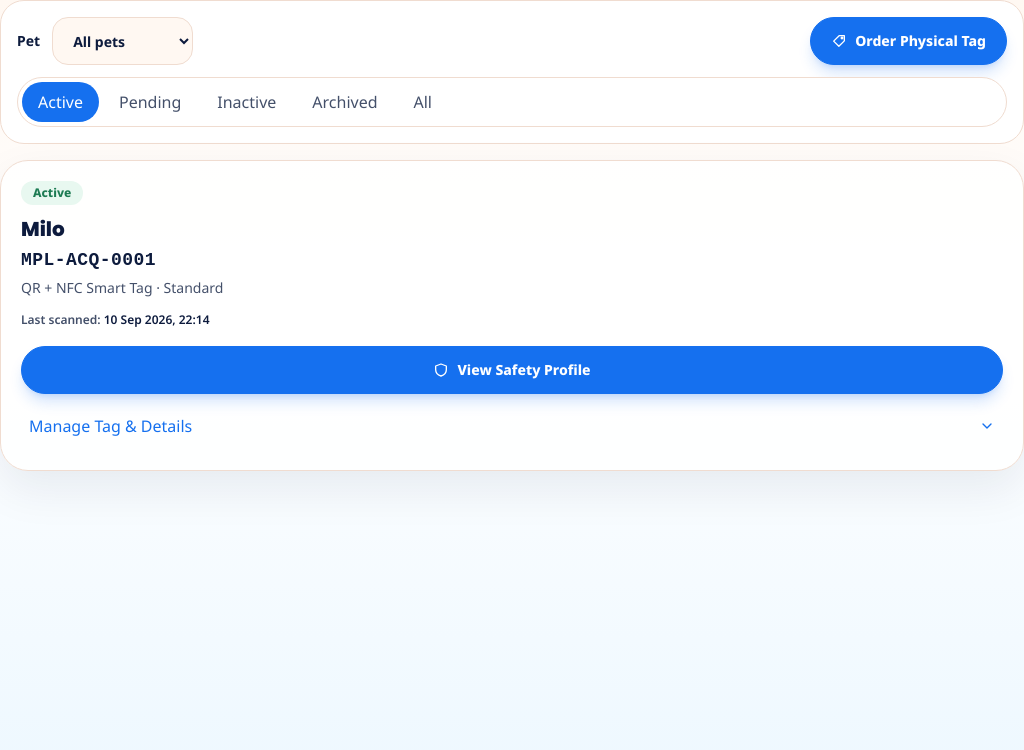
Test: Smart Tag card by acquisition route › B — shows no order or delivery rows for a reseller-bought tag
Expected: the text "MPL-ACQ-0001" is shown, top-left (21, 250), bottom-right (156, 270)
Click the button "Manage Tag & Details" at (111, 426), box top-left (21, 402), bottom-right (1003, 450)
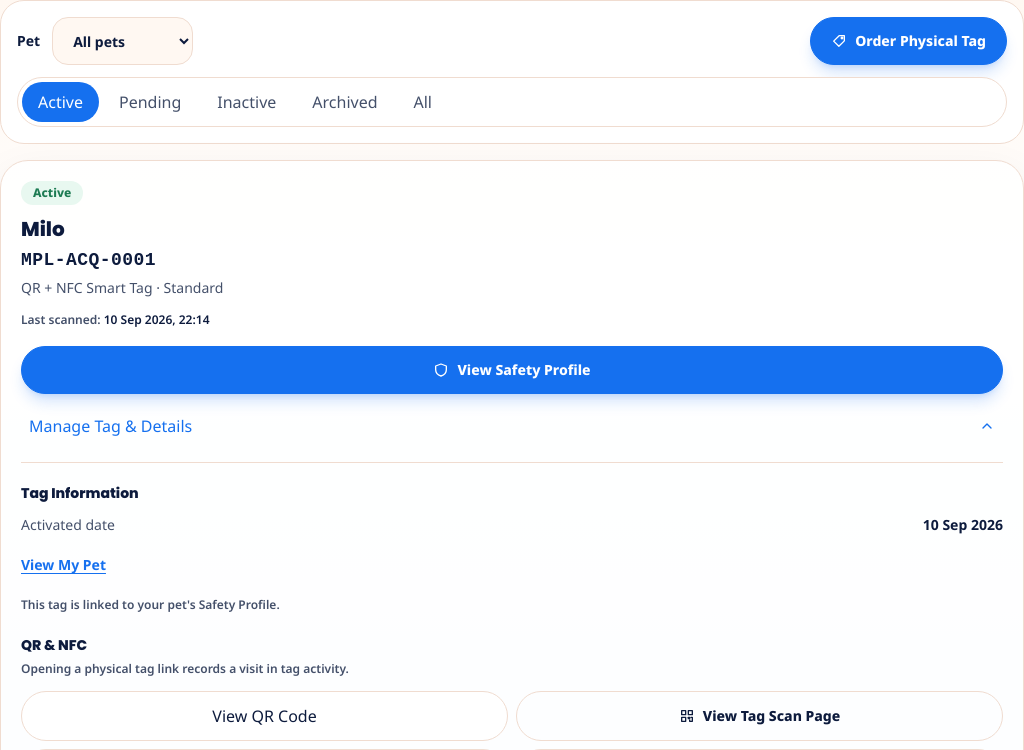
Expected: the heading "Milo" is shown, top-left (21, 215), bottom-right (65, 243)
Expected: the text "Activated date" is shown, top-left (21, 515), bottom-right (115, 535)
Expected: the text "10 Sep 2026" is shown, top-left (923, 515), bottom-right (1003, 535)
